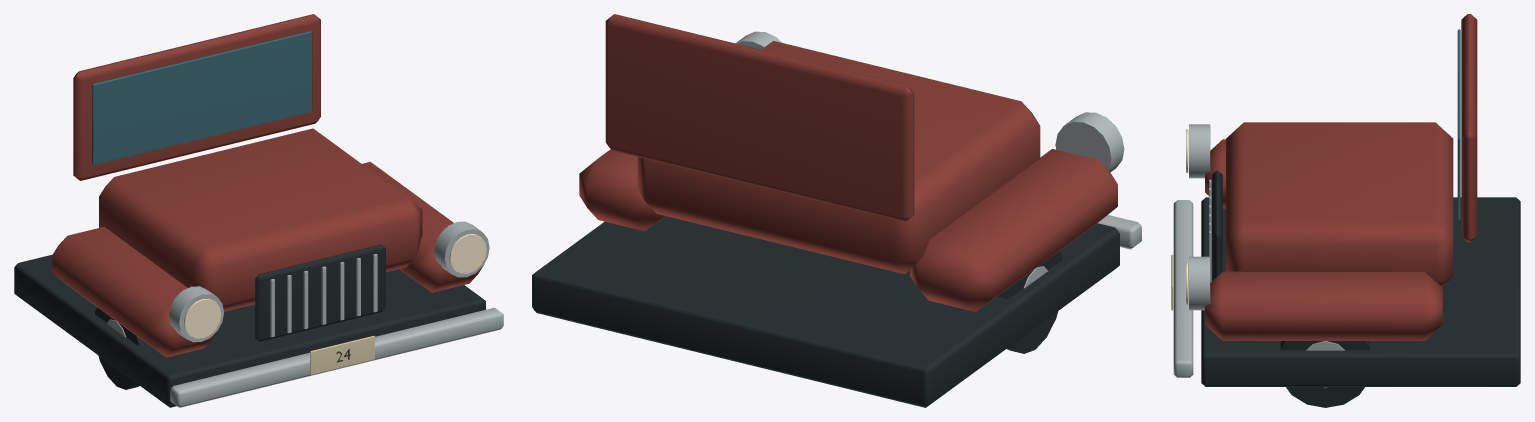
File: S089_car_front_shell_rebuilt.glb
The picture shows the model from 3 angles, left to right: view 1: azimuth 30°, elevation 25°; view 2: azimuth 150°, elevation 25°; view 3: azimuth 270°, elevation 25°; orthographic projection. The views are drawn at different scales.
Parts seen in each view (by area): view 1: Vintage_car_muted_red_paint, dark, glass, steel, cream, paper; view 2: Vintage_car_muted_red_paint, dark, steel; view 3: Vintage_car_muted_red_paint, dark, steel, glass.
Part boxes in pixels (x1,y1,x2,y2): Vintage_car_muted_red_paint: [52, 14, 484, 357]; dark: [14, 244, 485, 407]; glass: [92, 31, 312, 164]; steel: [106, 221, 503, 407]; cream: [184, 234, 486, 338]; paper: [310, 336, 374, 374]; Vintage_car_muted_red_paint: [579, 14, 1117, 311]; dark: [532, 216, 1119, 407]; steel: [735, 31, 1141, 288]; Vintage_car_muted_red_paint: [1205, 14, 1477, 340]; dark: [1201, 170, 1520, 407]; steel: [1173, 124, 1344, 387]; glass: [1457, 29, 1460, 219].
Bounding box in the file's own units: 2.25 × 1.64 × 2.01.
